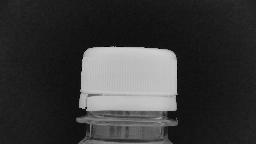Broken Ring: (78, 91, 110, 113)
Loose Cap: (74, 84, 184, 130)
